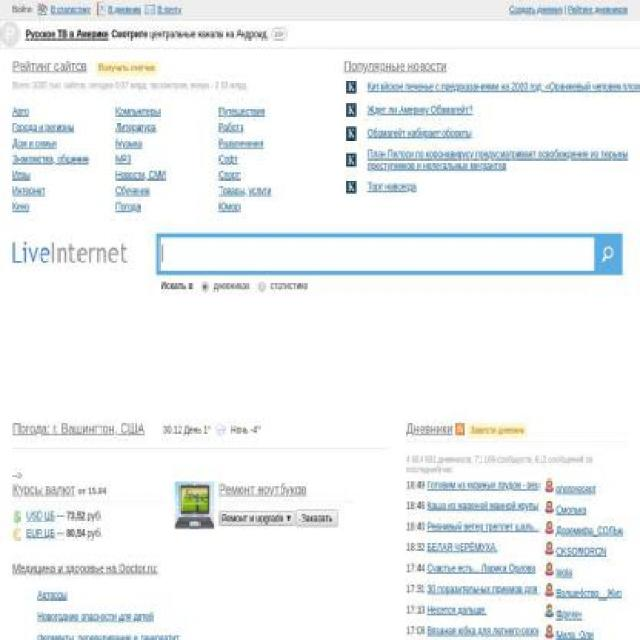button: (367, 149, 639, 173), (367, 81, 639, 93), (367, 105, 639, 117), (367, 128, 639, 140), (367, 181, 639, 193), (25, 28, 268, 40), (38, 2, 92, 16), (96, 2, 141, 16), (144, 2, 182, 16), (1, 21, 19, 47)
field: (162, 244, 593, 262), (219, 509, 295, 526), (595, 237, 619, 271), (296, 508, 338, 527), (201, 281, 210, 293), (258, 281, 267, 293)
